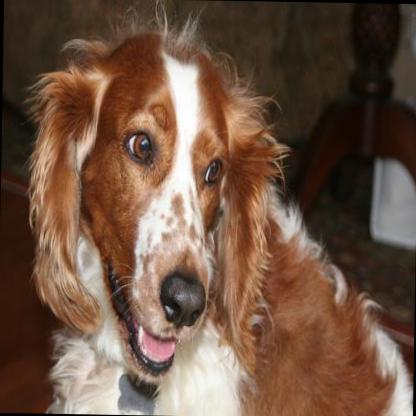Welsh_springer_spaniel: (20, 1, 416, 416)
